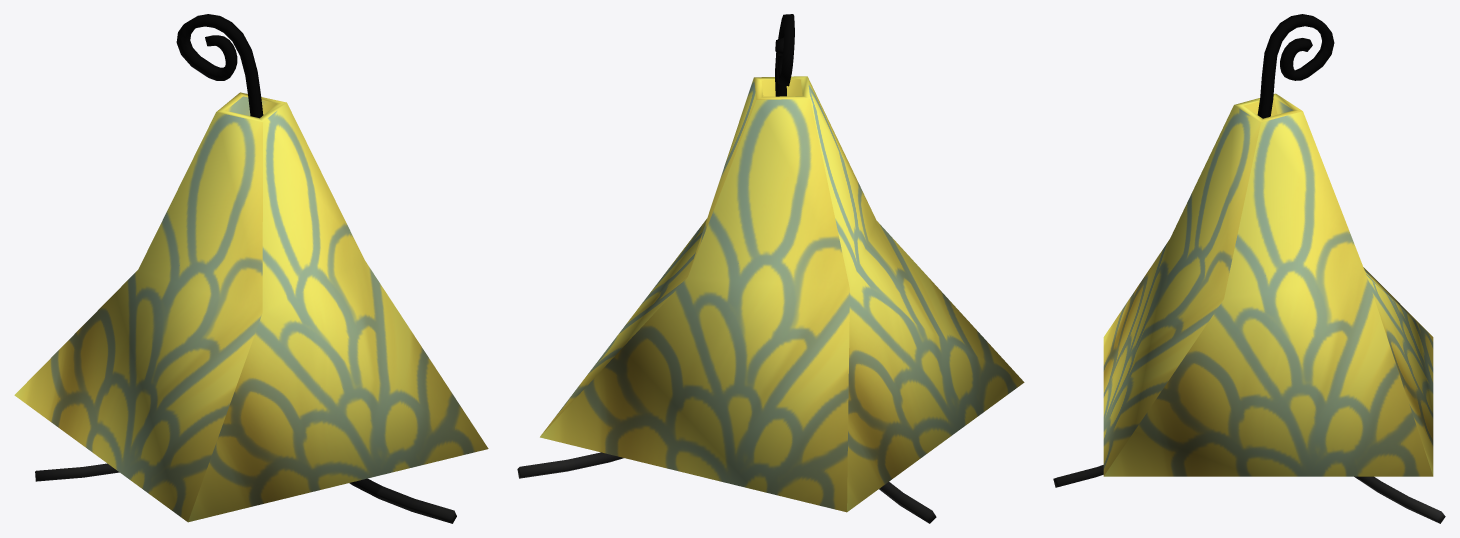
Rendered from JoyLamp.fbx.
3 views of the same model, side by side, from view 1: azimuth 30°, elevation 25°; view 2: azimuth 150°, elevation 25°; view 3: azimuth 270°, elevation 25° (orthographic). The views are drawn at different scales.
Visible parts, largest first — view 1: JoyLamp; view 2: JoyLamp; view 3: JoyLamp.
Boxes of the visible parts, x1=… form: JoyLamp: x1=14, y1=14, x2=488, y2=523; JoyLamp: x1=517, y1=14, x2=1024, y2=523; JoyLamp: x1=1053, y1=14, x2=1445, y2=523.
Bounding box in the file's own units: 0.3266 × 0.3901 × 0.3307.
